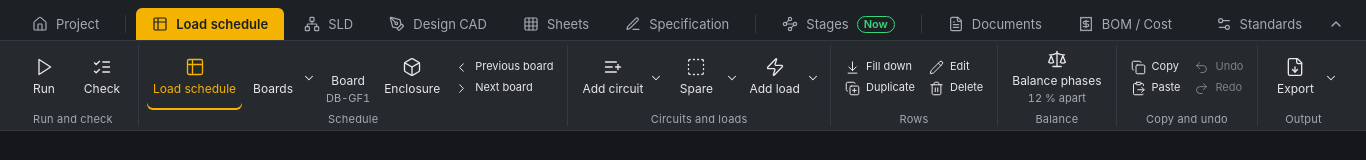
Test: the Load schedule tab › duplicates the circuit of the active row
Click the button "Duplicate".
click(880, 88)  # box [839,78,921,98]
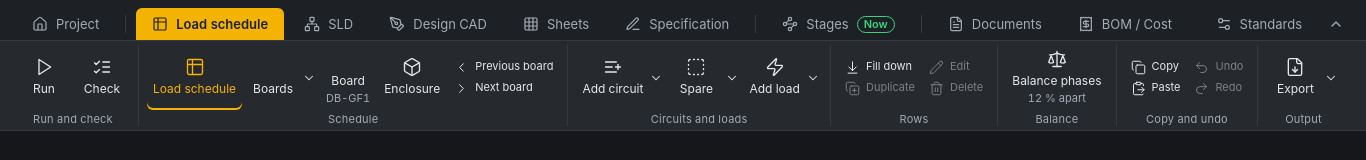
Now the button "Duplicate" is disabled, box [839,78,921,98]
